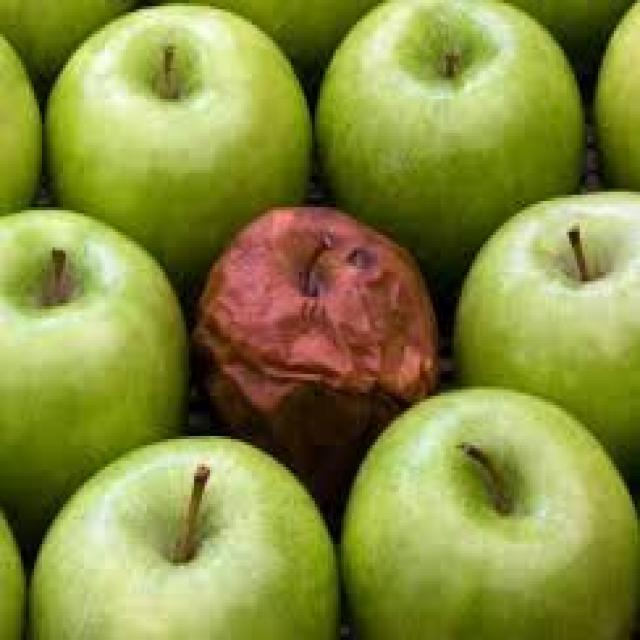organic waste: (0, 0, 637, 637), (336, 383, 637, 637), (309, 0, 584, 278), (42, 3, 315, 275), (197, 201, 438, 495), (26, 430, 336, 637), (0, 201, 186, 538), (452, 182, 638, 488), (215, 0, 388, 99), (509, 0, 637, 102), (0, 0, 136, 93), (0, 22, 42, 213), (596, 0, 638, 189), (0, 507, 24, 637)
